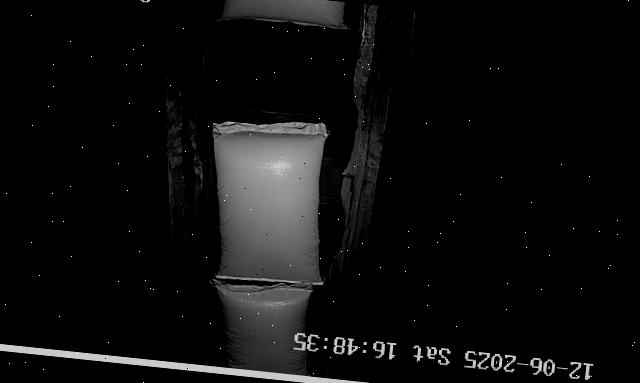bag: (196, 111, 340, 289), (202, 272, 318, 375), (215, 0, 351, 36)
